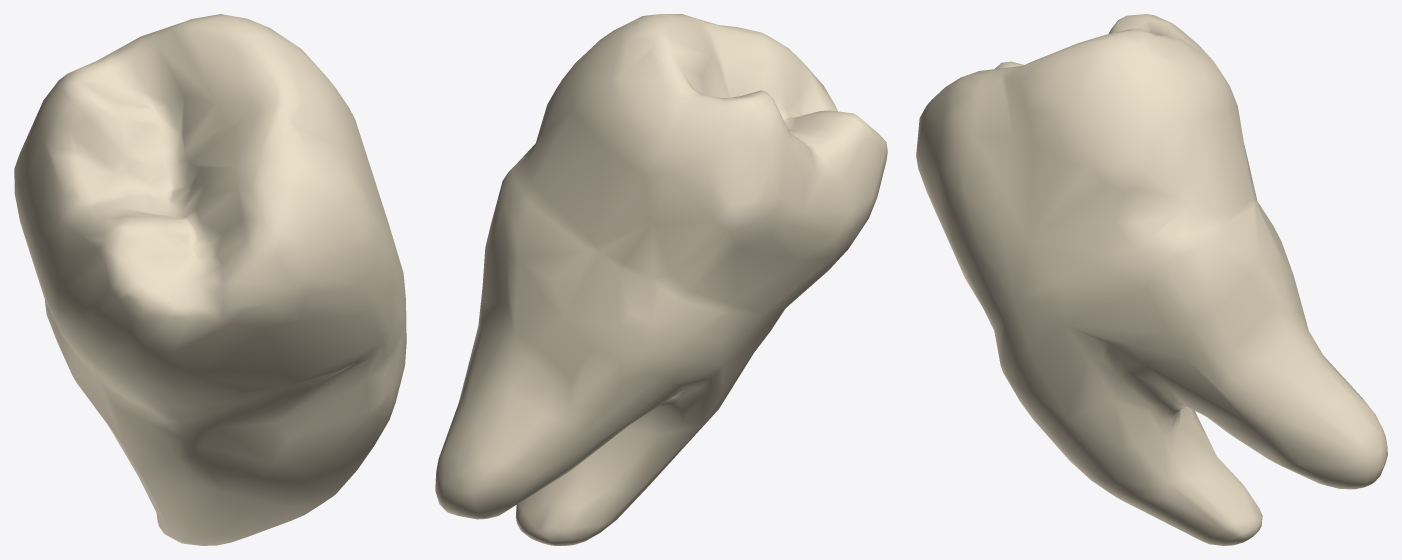
Rendered from lower-second-molar-tooth-l.glb.
3 renders of one model, left to right at view 1: azimuth 30°, elevation 25°; view 2: azimuth 150°, elevation 25°; view 3: azimuth 270°, elevation 25°, orthographic. The views are drawn at different scales.
Visible parts, largest first — view 1: Lower second molar tooth.l; view 2: Lower second molar tooth.l; view 3: Lower second molar tooth.l.
Boxes of the visible parts, x1,y1,x2,y2 form: Lower second molar tooth.l: (14,14,406,545); Lower second molar tooth.l: (435,14,887,545); Lower second molar tooth.l: (916,14,1387,545).
Size of the model in its own units: 0.0118 by 0.0182 by 0.0161.
